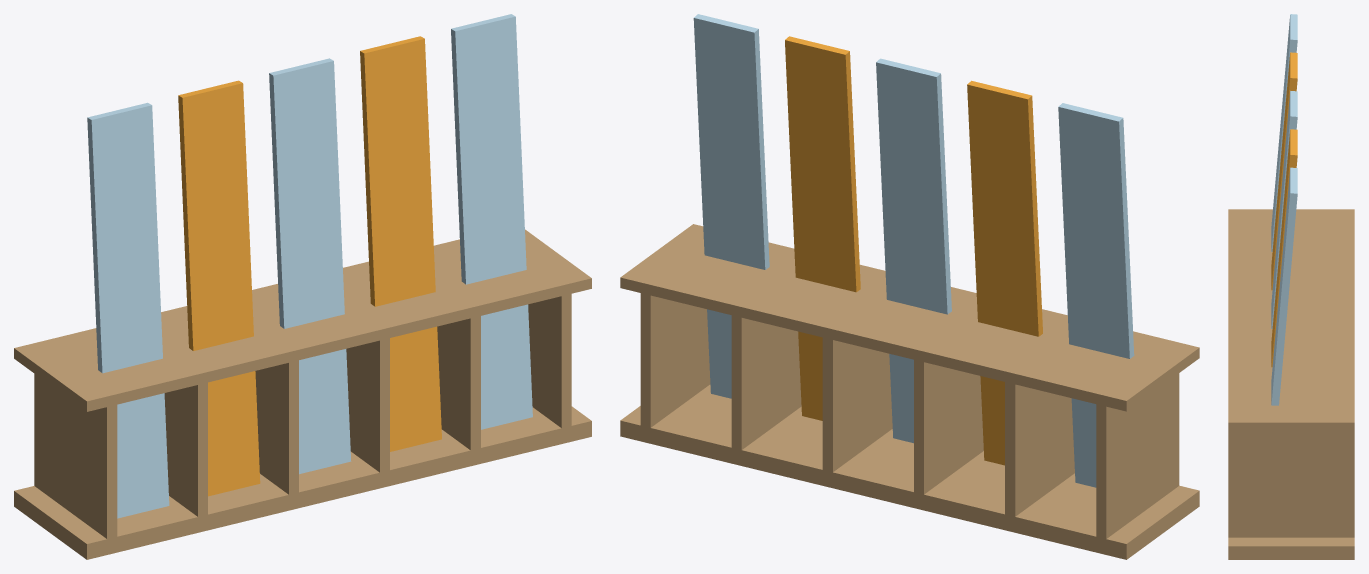
File: ski-resort-and-snow-park-board-rack-d76af1e4__26015.glb
3 views of the same model, side by side, from view 1: azimuth 30°, elevation 25°; view 2: azimuth 150°, elevation 25°; view 3: azimuth 270°, elevation 25° (orthographic). The views are drawn at different scales.
Parts seen in each view (by area): view 1: board-rack; view 2: board-rack; view 3: board-rack.
Boxes of the visible parts, left/top/right/bottom form: board-rack: left=14, top=14, right=591, bottom=559; board-rack: left=620, top=14, right=1199, bottom=559; board-rack: left=1228, top=14, right=1354, bottom=559.
Size of the model in its own units: 2 by 1.53 by 0.5001.
